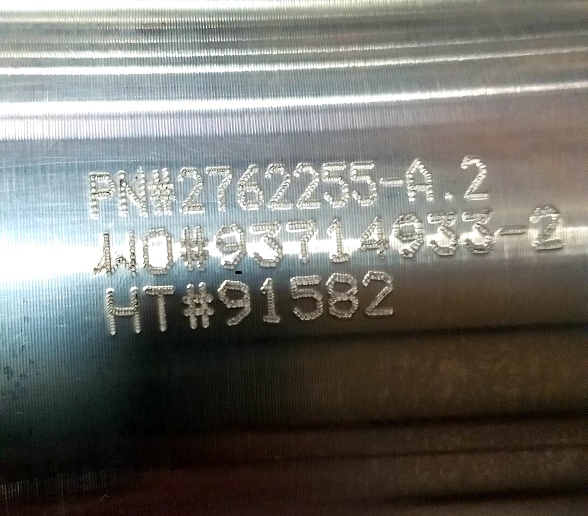character: (360, 265, 407, 325), (214, 273, 254, 338), (455, 205, 496, 263), (174, 281, 220, 332), (493, 200, 529, 264), (101, 285, 143, 339), (287, 273, 326, 331), (527, 199, 563, 260), (351, 212, 393, 264), (246, 219, 287, 272), (139, 221, 174, 279), (174, 221, 213, 273), (98, 228, 139, 277), (142, 277, 174, 339), (423, 209, 457, 267), (391, 212, 429, 263), (283, 218, 320, 269), (116, 162, 149, 219), (232, 159, 265, 216), (254, 273, 286, 331), (201, 161, 235, 215), (315, 160, 351, 211), (325, 272, 361, 323), (398, 157, 436, 205), (80, 167, 117, 216), (454, 155, 493, 201), (212, 221, 245, 274), (175, 160, 204, 219), (264, 159, 295, 214), (321, 215, 357, 262), (146, 163, 175, 219), (291, 160, 320, 214), (350, 157, 378, 211), (378, 157, 407, 208)
